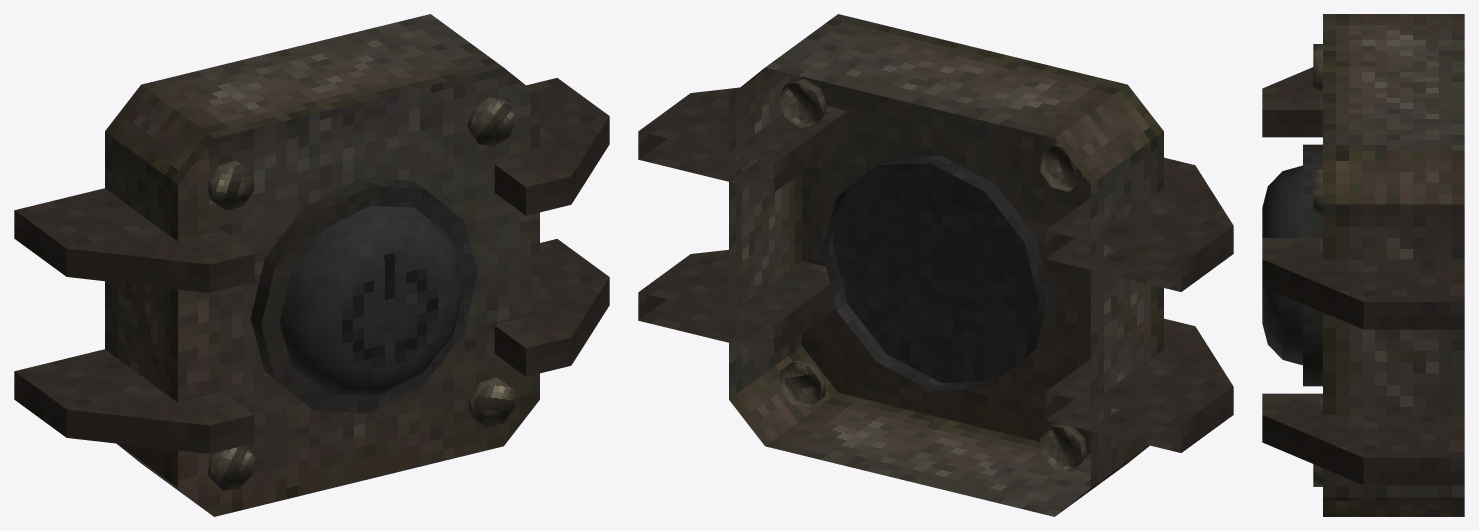
The model's file is button_etx_black_2.glb.
3 renders of one model, left to right at view 1: azimuth 30°, elevation 25°; view 2: azimuth 150°, elevation 25°; view 3: azimuth 270°, elevation 25°, orthographic. The views are drawn at different scales.
Parts seen in each view (by area): view 1: button_etx_black_2, button_etx_black_2_child; view 2: button_etx_black_2; view 3: button_etx_black_2, button_etx_black_2_child.
Part boxes in pixels (x1,y1,x2,y2): button_etx_black_2: (14, 14, 609, 516); button_etx_black_2_child: (279, 206, 464, 396); button_etx_black_2: (638, 14, 1233, 516); button_etx_black_2: (1262, 14, 1464, 516); button_etx_black_2_child: (1262, 165, 1302, 365).
Size of the model in its own units: 0.216 by 0.144 by 0.072.
1 material, 1 textured.
